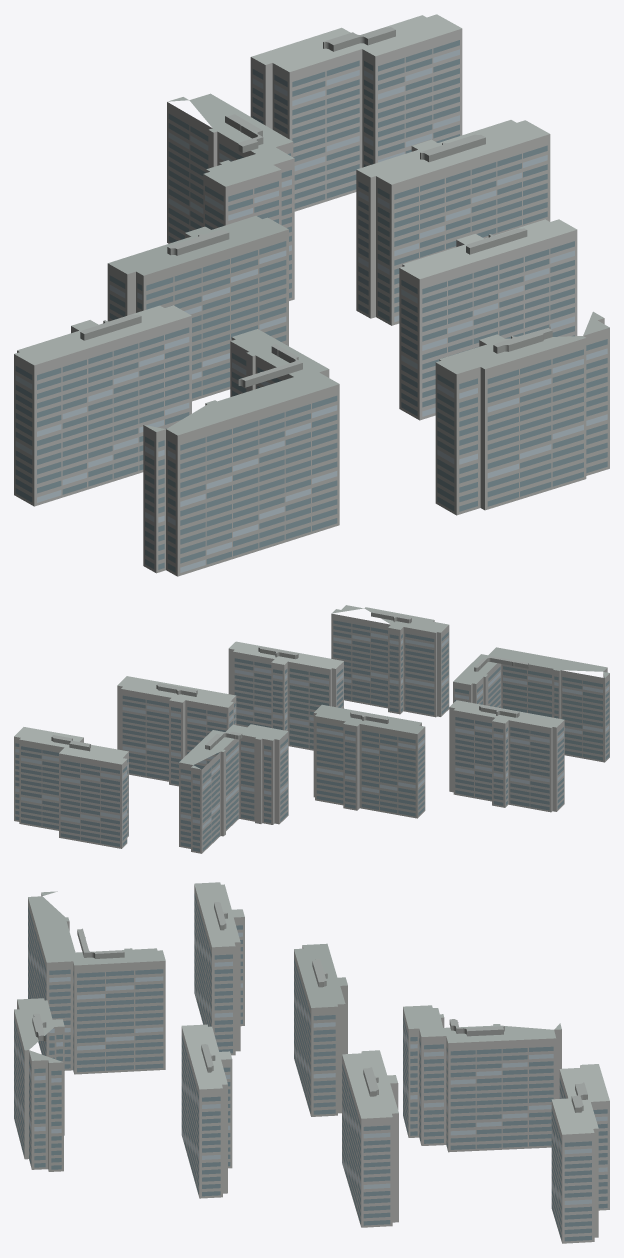
File: apt-a13187306.glb
The picture shows the model from 3 angles, top to bottom: view 1: azimuth 30°, elevation 25°; view 2: azimuth 150°, elevation 25°; view 3: azimuth 270°, elevation 25°; orthographic projection. The views are drawn at different scales.
Visible parts, largest first — view 1: apt-a13187306; view 2: apt-a13187306; view 3: apt-a13187306.
Boxes of the visible parts, <box> form: apt-a13187306: <box>14,14,609,576</box>; apt-a13187306: <box>14,605,609,853</box>; apt-a13187306: <box>14,882,609,1243</box>.
Bounding box in the file's own units: 199 × 42 × 199.
